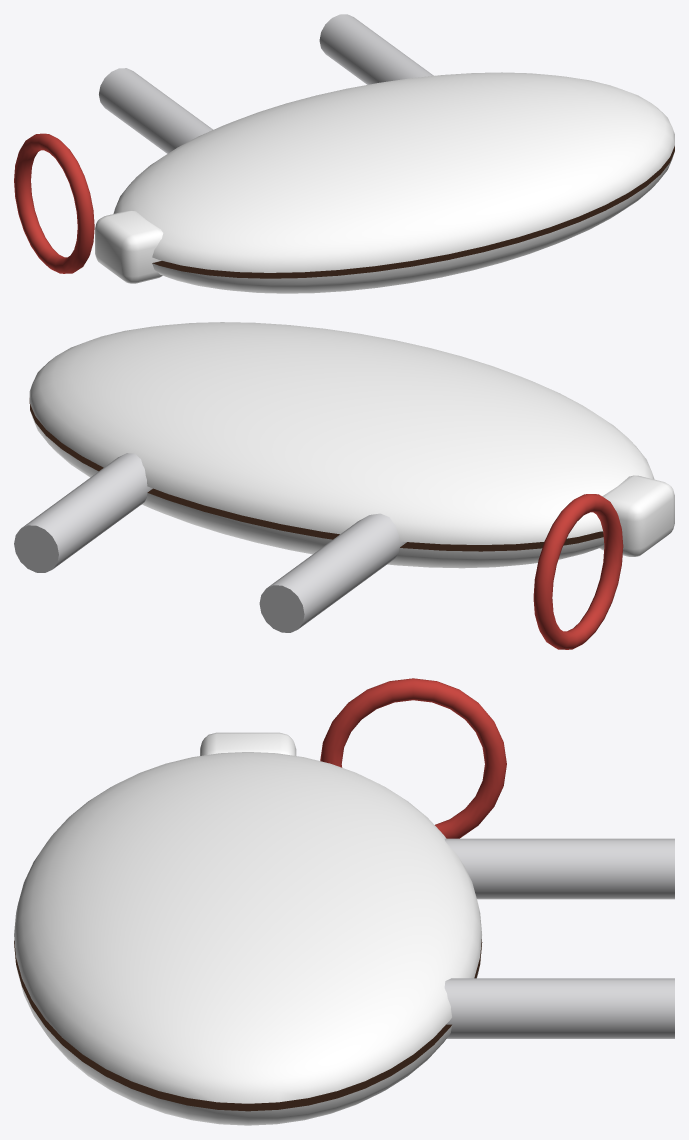
3 views of the same model, one above another, from view 1: azimuth 30°, elevation 25°; view 2: azimuth 150°, elevation 25°; view 3: azimuth 270°, elevation 25° (orthographic). The views are drawn at different scales.
Parts seen in each view (by area): view 1: castanets_default; view 2: castanets_default; view 3: castanets_default.
Boxes of the visible parts, x1=… form: castanets_default: x1=14, y1=14, x2=674, y2=293; castanets_default: x1=14, y1=322, x2=674, y2=649; castanets_default: x1=14, y1=678, x2=674, y2=1125.
Size of the model in its own units: 0.6 by 0.136 by 0.48.
